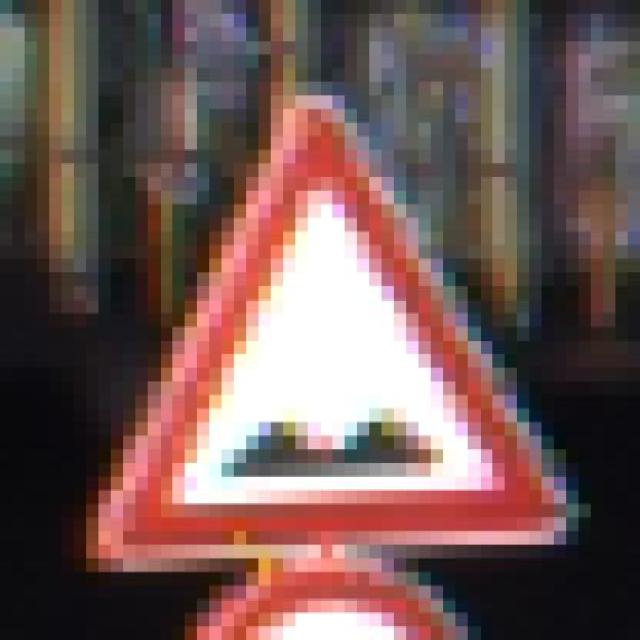Uneven Road: (86, 81, 603, 558)
